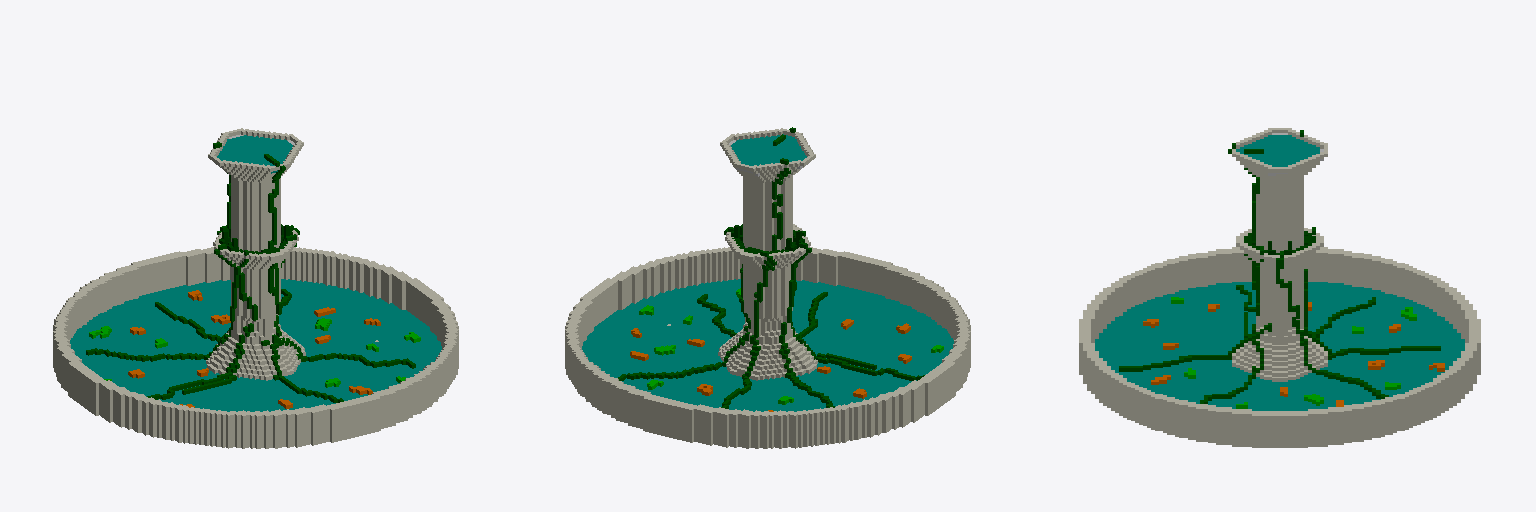
3 views of the same model, side by side, from view 1: azimuth 30°, elevation 25°; view 2: azimuth 150°, elevation 25°; view 3: azimuth 270°, elevation 25° (orthographic).
Parts seen in each view (by area): view 1: Model; view 2: Model; view 3: Model.
Part boxes in pixels (left/top/right/bottom): Model: left=53, top=128, right=458, bottom=448; Model: left=565, top=127, right=970, bottom=448; Model: left=1079, top=128, right=1480, bottom=447.
Bounding box in the file's own units: 32 × 19.52 × 32.
1 materials, 1 textured.